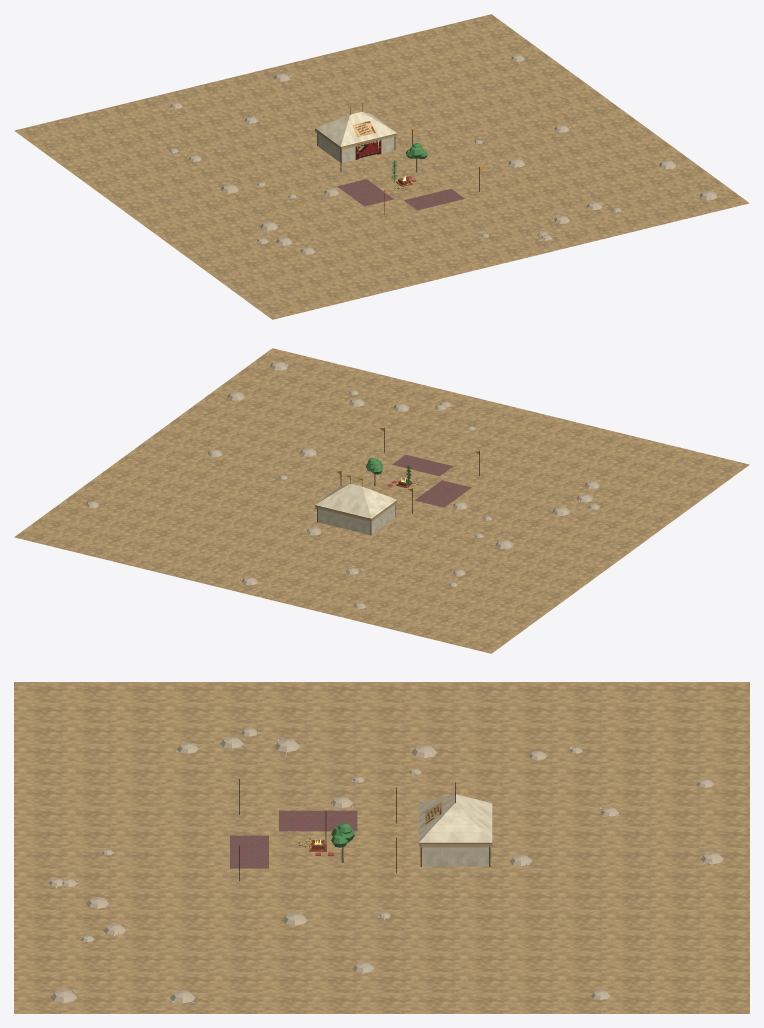
File: temple-site.a20052e4ef.glb
3 renders of one model, top to bottom at view 1: azimuth 30°, elevation 25°; view 2: azimuth 150°, elevation 25°; view 3: azimuth 270°, elevation 25°, orthographic. The views are drawn at different scales.
Parts seen in each view (by area): view 1: site, furniture; view 2: site, furniture; view 3: site, furniture.
Boxes of the visible parts, box(x1,y1,x2,y2) form: site: box(14, 14, 749, 319); furniture: box(169, 55, 717, 254); site: box(14, 348, 749, 653); furniture: box(84, 361, 600, 609); site: box(14, 682, 749, 1013); furniture: box(48, 727, 723, 1003).
Size of what is drawn, in the model's own units: 80 by 7.52 by 75.
Materials: 31 (10 with a texture image).
